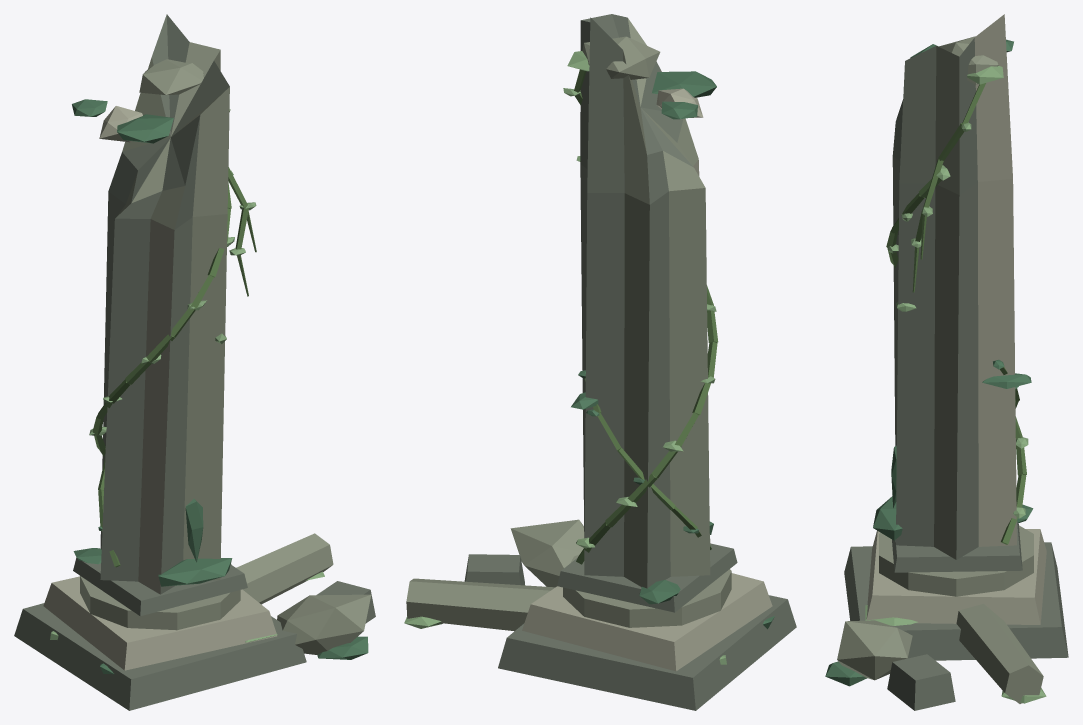
The model's file is ruin_pillar.glb.
The picture shows the model from 3 angles, left to right: view 1: azimuth 30°, elevation 25°; view 2: azimuth 150°, elevation 25°; view 3: azimuth 270°, elevation 25°; orthographic projection. The views are drawn at different scales.
Visible parts, largest first — view 1: ruin_pillar; view 2: ruin_pillar; view 3: ruin_pillar.
Boxes of the visible parts, left/top/right/bottom form: ruin_pillar: left=14, top=14, right=375, bottom=710; ruin_pillar: left=404, top=14, right=796, bottom=710; ruin_pillar: left=825, top=14, right=1068, bottom=710.
Size of the model in its own units: 1.76 by 3.5 by 1.25.
